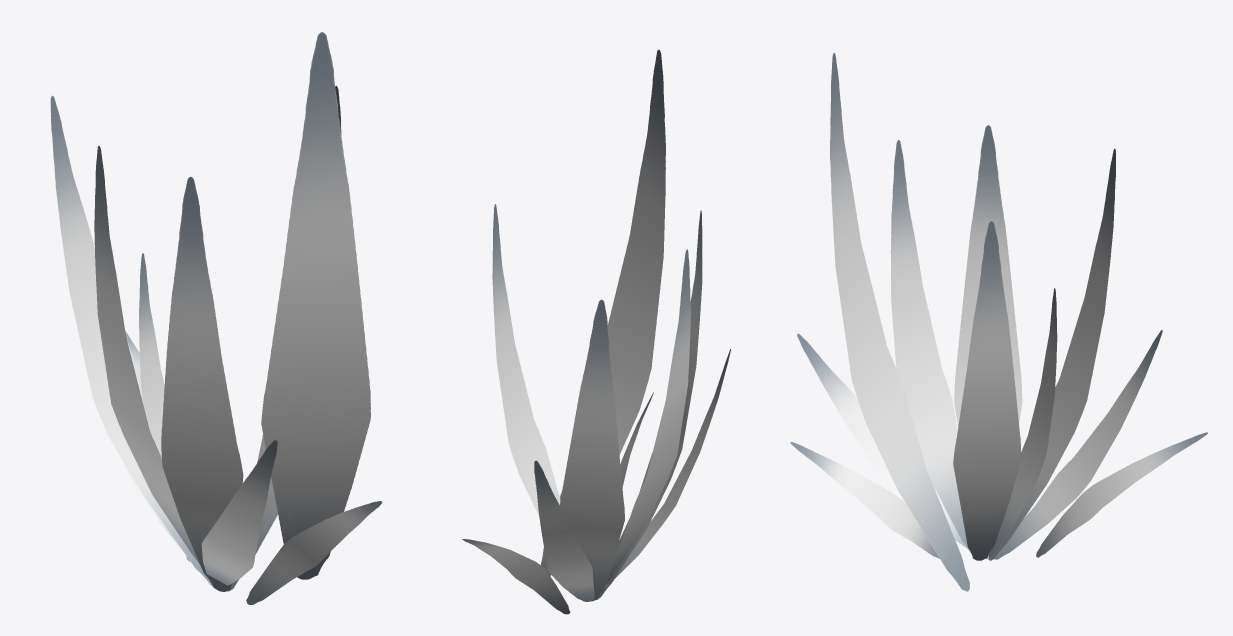
The model's file is Hay2.fbx.
3 renders of one model, left to right at view 1: azimuth 30°, elevation 25°; view 2: azimuth 150°, elevation 25°; view 3: azimuth 270°, elevation 25°, orthographic. The views are drawn at different scales.
Parts seen in each view (by area): view 1: Plane.002; view 2: Plane.002; view 3: Plane.002.
Boxes of the visible parts, left/top/right/bottom form: Plane.002: left=50, top=32, right=382, bottom=604; Plane.002: left=462, top=49, right=730, bottom=614; Plane.002: left=790, top=52, right=1207, bottom=591.
Size of the model in its own units: 118 by 156 by 70.96.
1 material, 1 textured.
